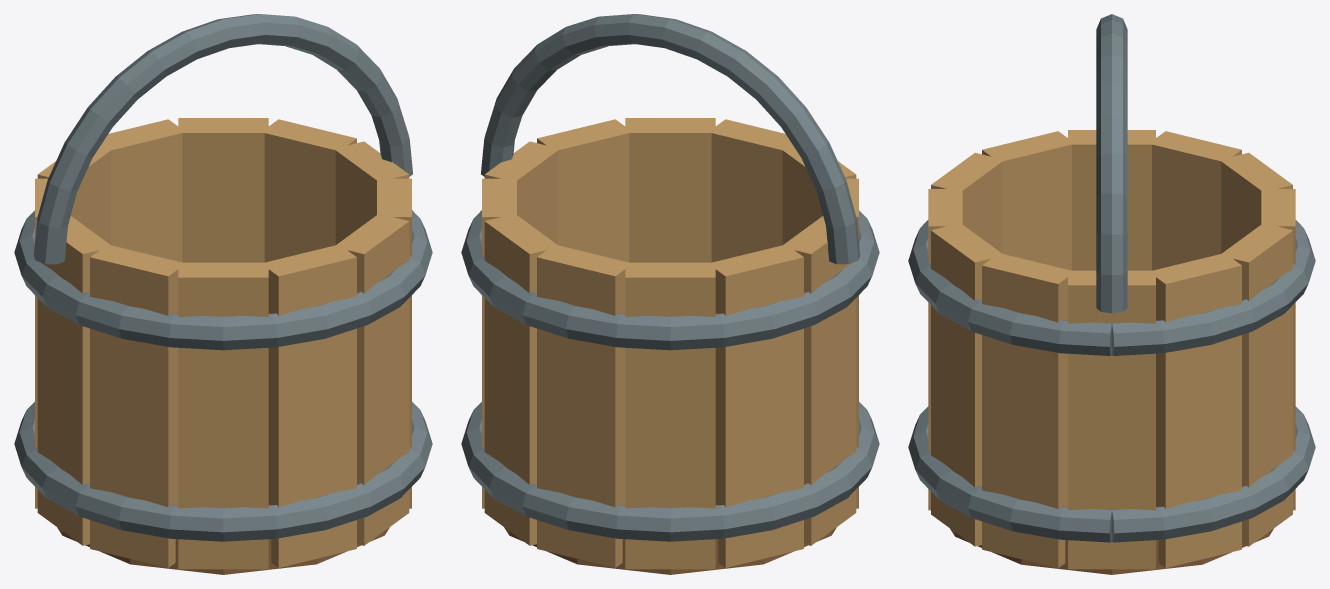
File: BrigadeBucket.glb
3 views of the same model, side by side, from view 1: azimuth 30°, elevation 25°; view 2: azimuth 150°, elevation 25°; view 3: azimuth 270°, elevation 25° (orthographic). The views are drawn at different scales.
Parts seen in each view (by area): view 1: Bucket stave.008, Bucket stave.009, Bucket stave.007, Carry bail, Bucket hoop.001, Bucket hoop, Bucket stave.010, Bucket stave.002, Bucket stave.006, Bucket stave.001, Bucket stave.003, Bucket stave (+4 smaller); view 2: Bucket stave.004, Bucket stave.005, Bucket stave.003, Carry bail, Bucket hoop.001, Bucket hoop, Bucket stave.002, Bucket stave.010, Bucket stave.006, Bucket stave.011, Bucket stave.009, Bucket stave (+4 smaller); view 3: Bucket stave.001, Bucket stave.011, Bucket stave, Bucket hoop.001, Bucket hoop, Bucket stave.002, Bucket stave.010, Carry bail, Bucket stave.007, Bucket stave.005, Bucket stave.006, Bucket stave.004 (+4 smaller).
Part boxes in pixels (x1,y1,x2,y2): Bucket stave.008: (178, 262, 268, 569); Bucket stave.009: (261, 244, 356, 567); Bucket stave.007: (90, 245, 185, 567); Carry bail: (33, 14, 412, 264); Bucket hoop.001: (14, 210, 432, 350); Bucket hoop: (14, 402, 432, 541); Bucket stave.010: (335, 213, 409, 545); Bucket stave.002: (178, 118, 268, 262); Bucket stave.006: (37, 216, 112, 545); Bucket stave.001: (264, 119, 356, 262); Bucket stave.003: (100, 119, 184, 262); Bucket stave: (334, 141, 409, 244); Bucket stave.004: (625, 262, 715, 569); Bucket stave.005: (708, 244, 803, 567); Bucket stave.003: (537, 245, 632, 567); Carry bail: (481, 14, 860, 264); Bucket hoop.001: (461, 210, 879, 350); Bucket hoop: (461, 402, 879, 541); Bucket stave.002: (484, 214, 559, 545); Bucket stave.010: (625, 118, 715, 262); Bucket stave.006: (782, 216, 856, 545); Bucket stave.011: (537, 119, 629, 262); Bucket stave.009: (711, 119, 792, 262); Bucket stave: (484, 141, 559, 244); Bucket stave.001: (1153, 254, 1241, 568); Bucket stave.011: (982, 254, 1070, 568); Bucket stave: (1068, 270, 1155, 569); Bucket hoop.001: (908, 220, 1315, 355); Bucket hoop: (908, 406, 1315, 542); Bucket stave.002: (1220, 223, 1292, 546); Bucket stave.010: (931, 223, 1003, 546); Carry bail: (1096, 14, 1127, 313); Bucket stave.007: (982, 131, 1074, 270); Bucket stave.005: (1149, 131, 1241, 270); Bucket stave.006: (1068, 130, 1155, 270); Bucket stave.004: (1220, 152, 1292, 253).
Size of the model in its own units: 0.4318 by 0.5235 by 0.416.
